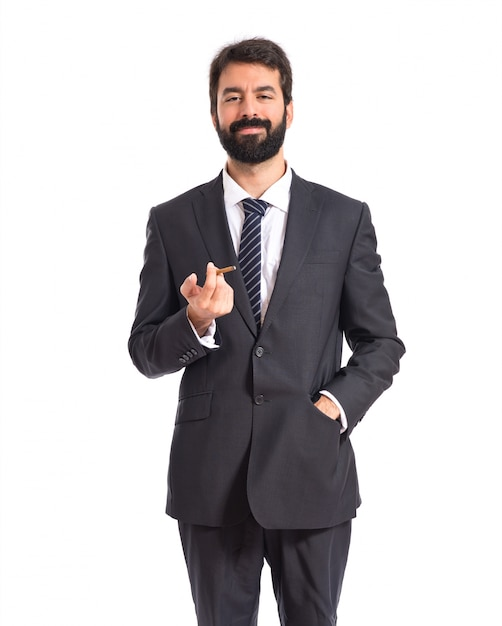cigarette: (213, 265, 236, 275)
